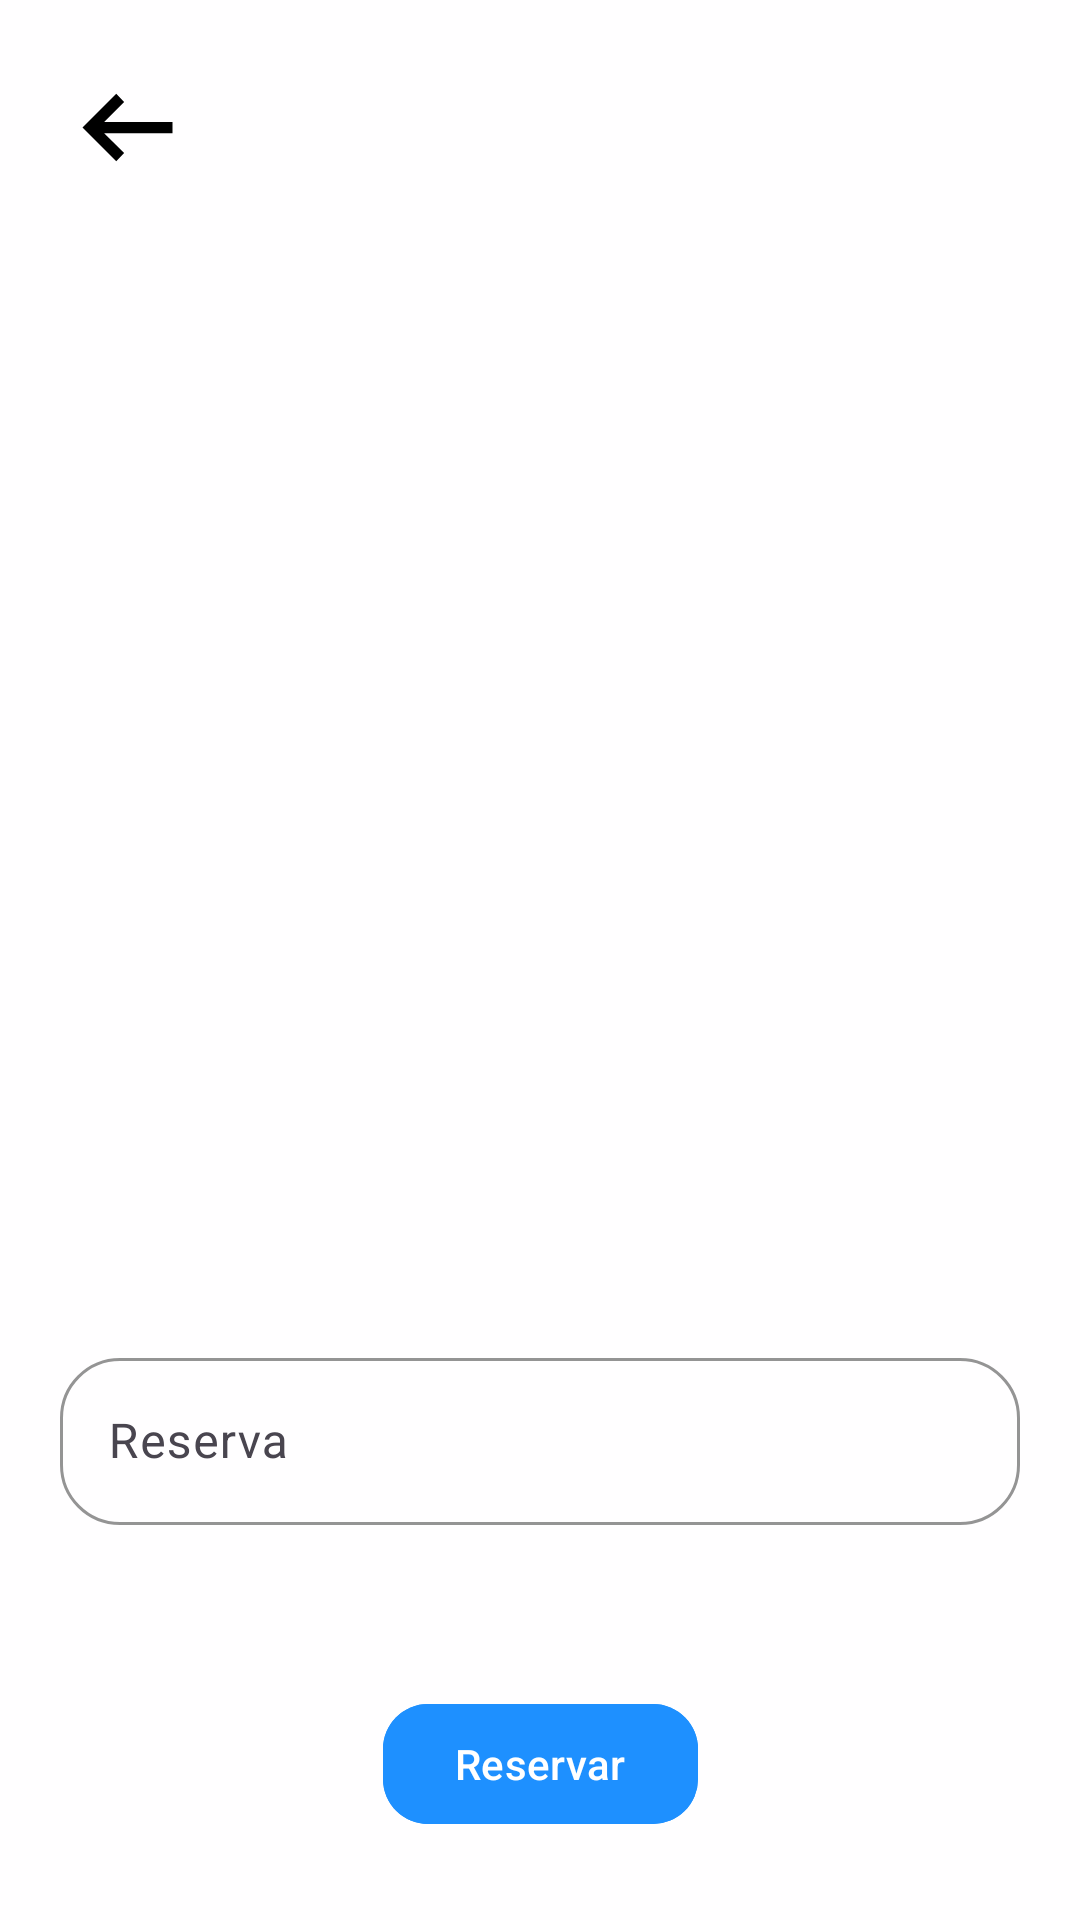

Icon click points for this 1080x1920 phone screenshot, format (x=x, y=y):
flecha izquierda: (x=127, y=127)
